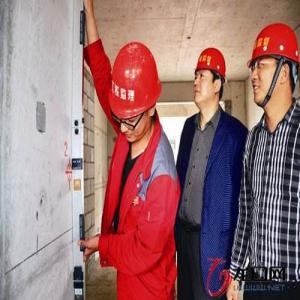red: (108, 42, 162, 143), (249, 23, 299, 111), (193, 49, 229, 115)
